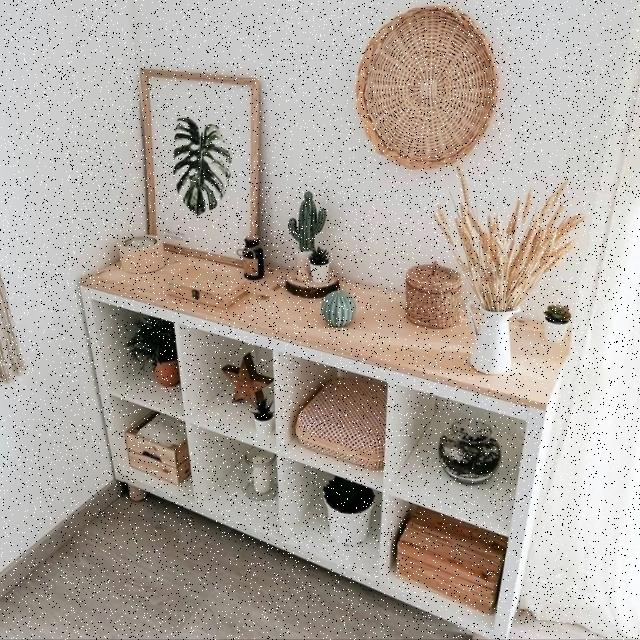Shelf: (76, 234, 584, 640)
